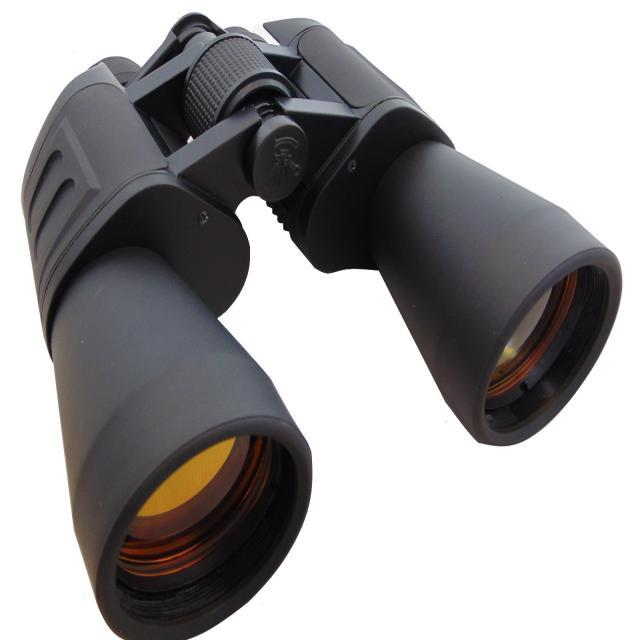Binocular: (21, 2, 624, 637)
